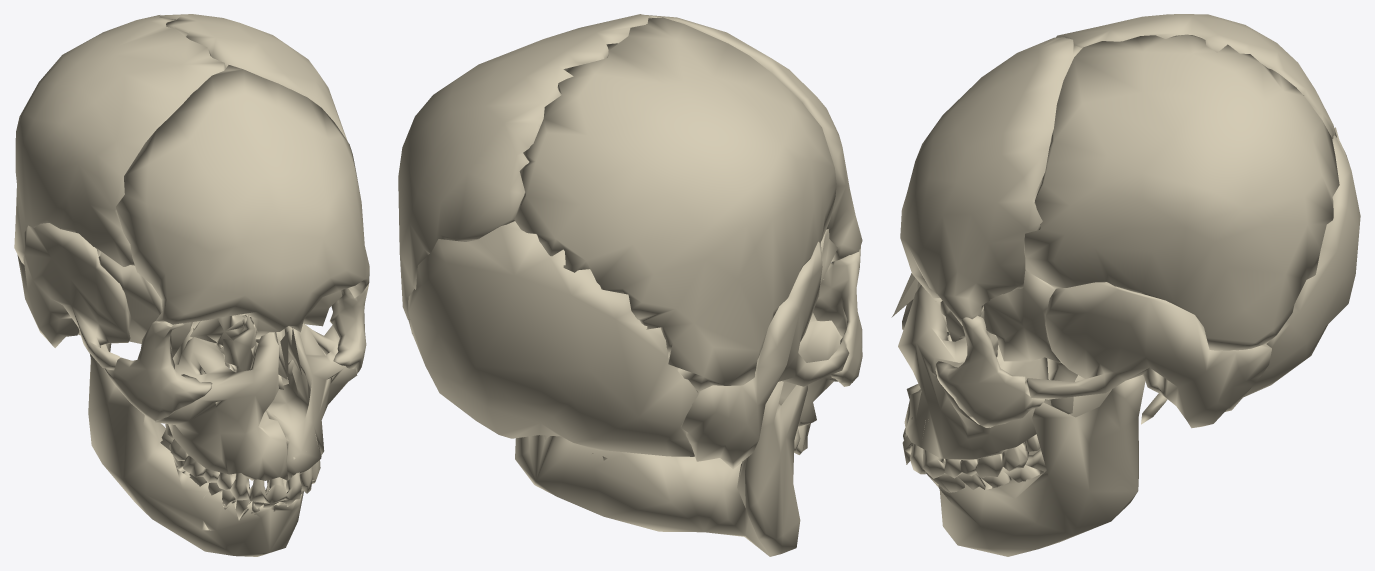
The model's file is anatomical-skull.glb.
3 renders of one model, left to right at view 1: azimuth 30°, elevation 25°; view 2: azimuth 150°, elevation 25°; view 3: azimuth 270°, elevation 25°, orthographic. The views are drawn at different scales.
Visible parts, largest first — view 1: frontal, parietal-right, mandible, maxilla-right, temporal-right, maxilla-left, parietal-left, zygomatic-right, cranial-base, upper-teeth, zygomatic-left, nasal-core; view 2: parietal-right, occipital, parietal-left, mandible, temporal-right, frontal, zygomatic-right, maxilla-right; view 3: parietal-left, frontal, mandible, temporal-left, maxilla-left, occipital, parietal-right, zygomatic-left, cranial-base, upper-teeth.
Boxes of the visible parts, box(x1,y1,x2,y2) form: frontal: box(116, 65, 369, 339); parietal-right: box(14, 15, 225, 266); mandible: box(88, 343, 303, 556); maxilla-right: box(155, 315, 288, 480); temporal-right: box(17, 223, 130, 369); maxilla-left: box(266, 323, 357, 479); parietal-left: box(159, 14, 347, 140); zygomatic-right: box(104, 321, 212, 421); cranial-base: box(98, 252, 342, 364); upper-teeth: box(165, 424, 320, 504); zygomatic-left: box(329, 284, 368, 373); nasal-core: box(190, 314, 301, 389); parietal-right: box(514, 17, 836, 391); occipital: box(408, 221, 698, 456); parietal-left: box(398, 14, 649, 319); mandible: box(515, 381, 807, 556); temporal-right: box(681, 241, 849, 469); frontal: box(645, 15, 862, 261); zygomatic-right: box(813, 246, 862, 386); maxilla-right: box(778, 313, 852, 426); parietal-left: box(1024, 34, 1339, 350); frontal: box(900, 37, 1081, 325); mandible: box(926, 374, 1145, 556); temporal-left: box(1026, 282, 1271, 428); maxilla-left: box(898, 285, 1051, 460); occipital: box(1243, 127, 1360, 397); parietal-right: box(1056, 14, 1336, 138); zygomatic-left: box(935, 315, 1045, 427); cranial-base: box(984, 270, 1077, 414); upper-teeth: box(902, 417, 1040, 478).
Bounding box in the file's own units: 0.1387 × 0.2079 × 0.1731.
